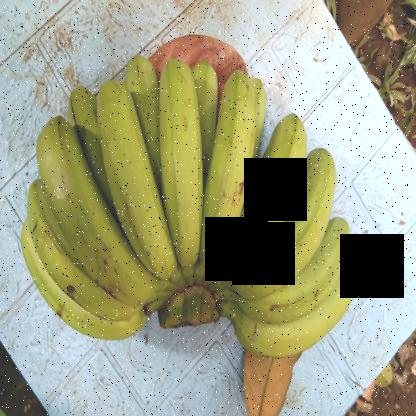freshunripe: (90, 75, 178, 286), (153, 58, 205, 268)
unripe: (28, 115, 158, 305), (18, 178, 129, 331), (236, 154, 338, 308), (200, 64, 268, 280), (220, 123, 307, 282)
